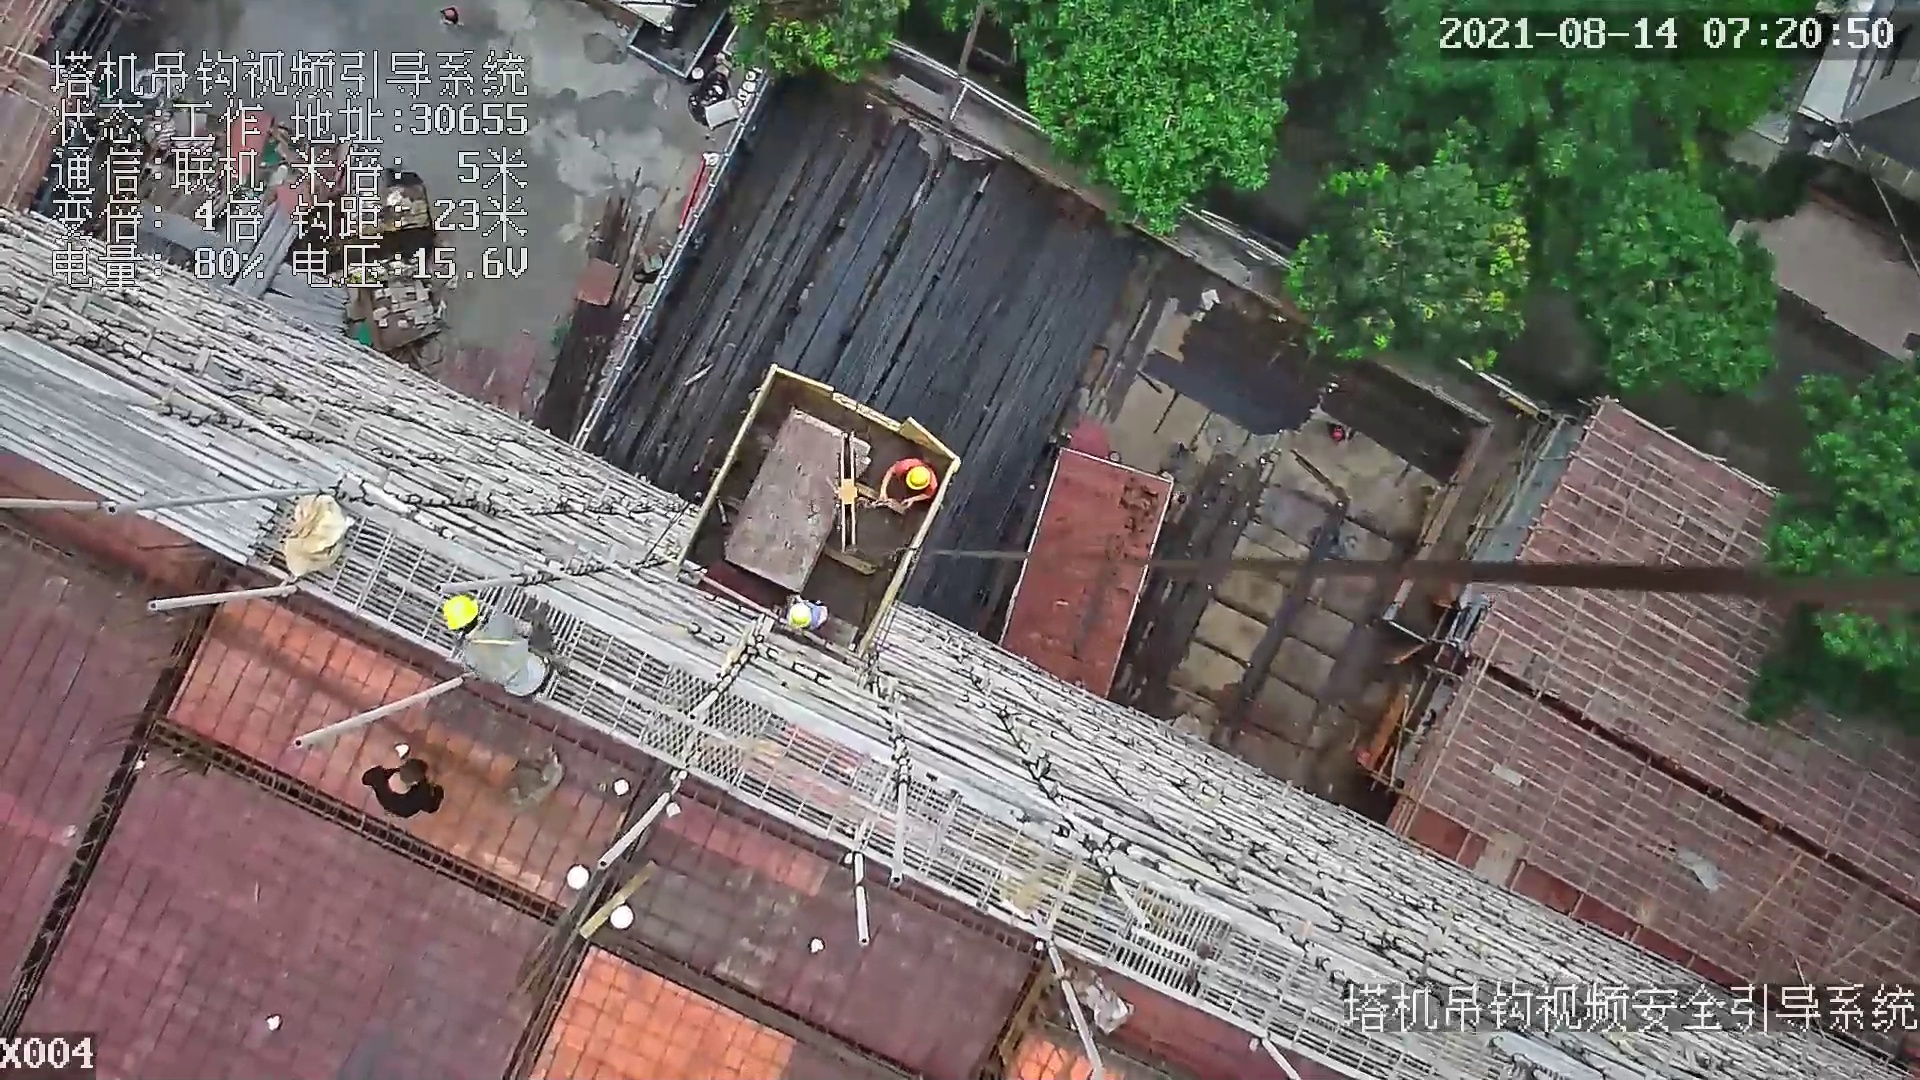helmet: (441, 595, 483, 630), (904, 463, 932, 492), (790, 604, 812, 630)
hook: (827, 427, 869, 553)
person: (434, 590, 578, 697), (358, 754, 442, 815), (881, 451, 937, 513), (791, 590, 824, 624)
